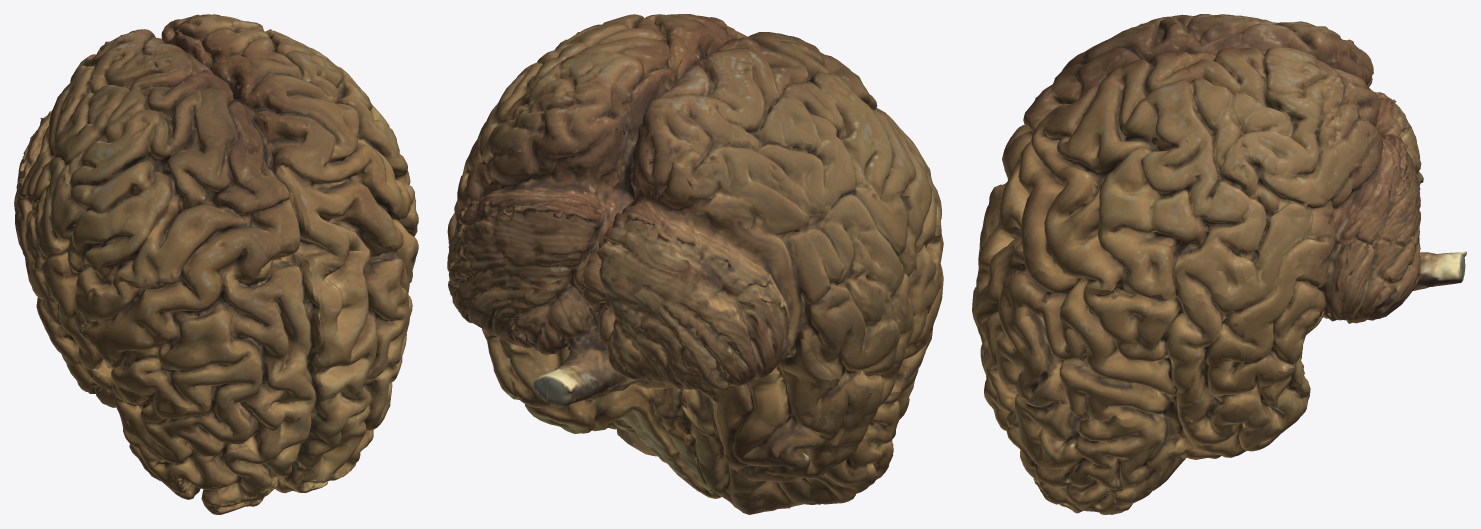
Rendered from brain_realistic_zones.glb.
3 views of the same model, side by side, from view 1: azimuth 30°, elevation 25°; view 2: azimuth 150°, elevation 25°; view 3: azimuth 270°, elevation 25° (orthographic). The views are drawn at different scales.
Parts seen in each view (by area): view 1: lobulo_frontal_izq, lobulo_parietal_izq, lobulo_frontal_der, lobulo_occipital_izq, lobulo_parietal_der, tronco_encefalico, lobulo_temporal_izq, lobulo_occipital_der, lobulo_temporal_der; view 2: lobulo_temporal_izq, tronco_encefalico, lobulo_frontal_izq, lobulo_temporal_der, lobulo_occipital_izq, cerebelo_izq, lobulo_parietal_izq, lobulo_occipital_der, lobulo_frontal_der, cerebelo_der, pared_medial_der; view 3: lobulo_frontal_der, lobulo_temporal_der, lobulo_parietal_der, lobulo_occipital_der, tronco_encefalico, lobulo_frontal_izq, lobulo_temporal_izq, cerebelo_der, lobulo_parietal_izq.
Boxes of the visible parts, left/top/right/bottom form: lobulo_frontal_izq: left=34, top=50, right=300, bottom=287; lobulo_parietal_izq: left=31, top=241, right=319, bottom=410; lobulo_frontal_der: left=208, top=32, right=415, bottom=267; lobulo_occipital_izq: left=62, top=355, right=314, bottom=514; lobulo_parietal_der: left=316, top=212, right=418, bottom=395; tronco_encefalico: left=27, top=17, right=416, bottom=487; lobulo_temporal_izq: left=14, top=29, right=200, bottom=334; lobulo_occipital_der: left=275, top=357, right=402, bottom=493; lobulo_temporal_der: left=166, top=14, right=306, bottom=51; lobulo_temporal_izq: left=618, top=64, right=880, bottom=449; tronco_encefalico: left=482, top=30, right=941, bottom=497; lobulo_frontal_izq: left=674, top=32, right=941, bottom=286; lobulo_temporal_der: left=447, top=45, right=665, bottom=399; lobulo_occipital_izq: left=681, top=361, right=922, bottom=514; cerebelo_izq: left=634, top=376, right=837, bottom=473; lobulo_parietal_izq: left=857, top=233, right=943, bottom=424; lobulo_occipital_der: left=525, top=384, right=721, bottom=498; lobulo_frontal_der: left=525, top=14, right=747, bottom=68; cerebelo_der: left=482, top=328, right=596, bottom=427; pared_medial_der: left=546, top=36, right=718, bottom=464; lobulo_frontal_der: left=998, top=47, right=1241, bottom=300; lobulo_temporal_der: left=1242, top=46, right=1420, bottom=432; lobulo_parietal_der: left=974, top=226, right=1241, bottom=422; lobulo_occipital_der: left=984, top=373, right=1273, bottom=514; tronco_encefalico: left=981, top=15, right=1466, bottom=443; lobulo_frontal_izq: left=1000, top=14, right=1241, bottom=196; lobulo_temporal_izq: left=1242, top=16, right=1423, bottom=194; cerebelo_der: left=1276, top=317, right=1322, bottom=430; lobulo_parietal_izq: left=972, top=182, right=1006, bottom=340.
Size of the model in its own units: 133 by 153 by 149.
2 materials, 1 textured.
